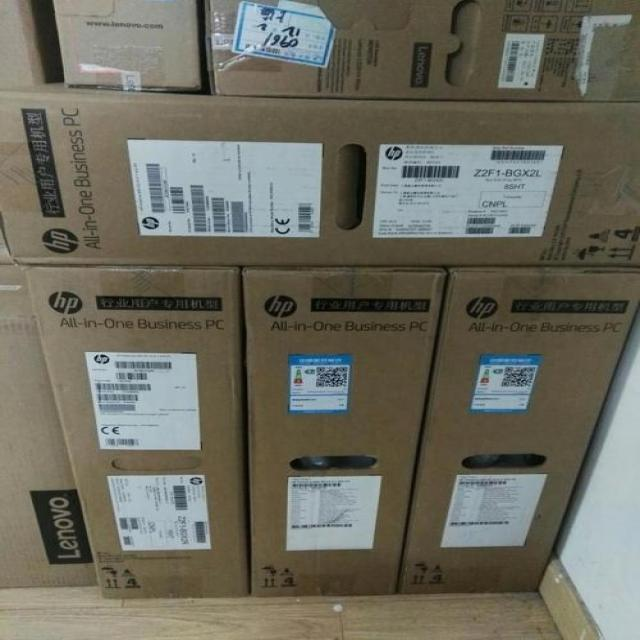box: (0, 80, 639, 266), (400, 267, 639, 594), (24, 264, 250, 598), (243, 266, 446, 597), (205, 0, 639, 101), (0, 265, 98, 587), (53, 0, 201, 92), (0, 0, 45, 91)
